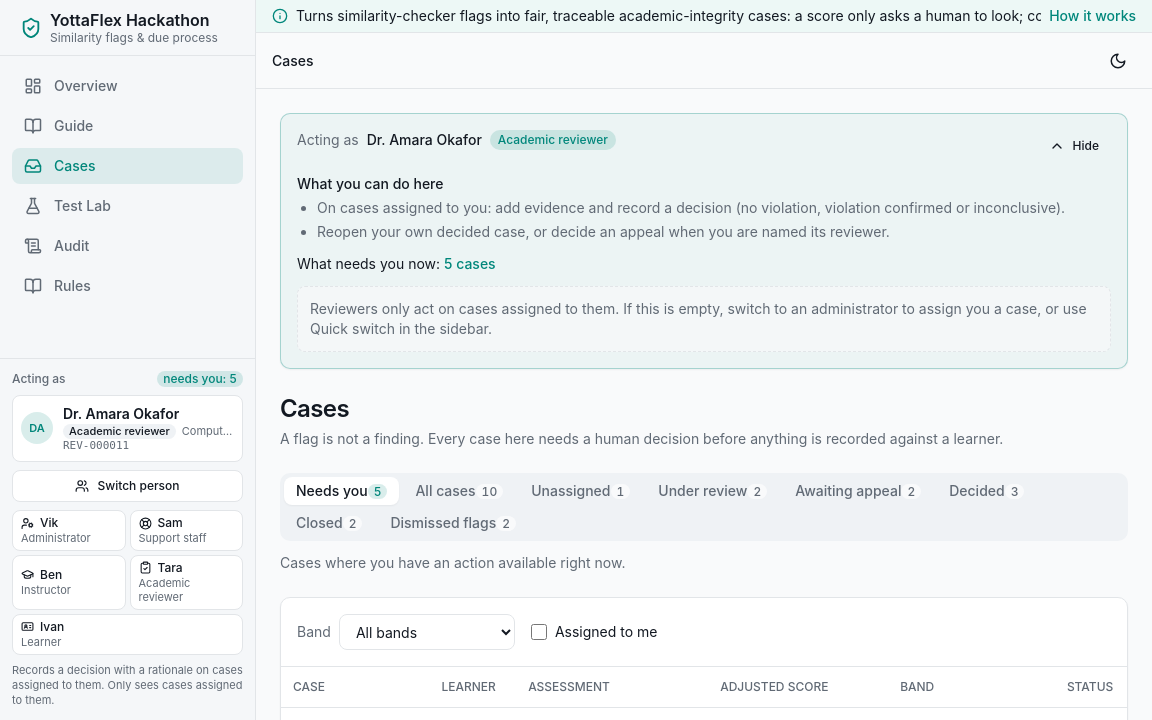
CasesPage › opens on Needs you and the Closed tab filters the list
Expected: the text "Elena Petrova" is not shown
Press the mouse on the tab "Closed2" at (329, 523), box [284, 509, 374, 537]
(page scrolled)
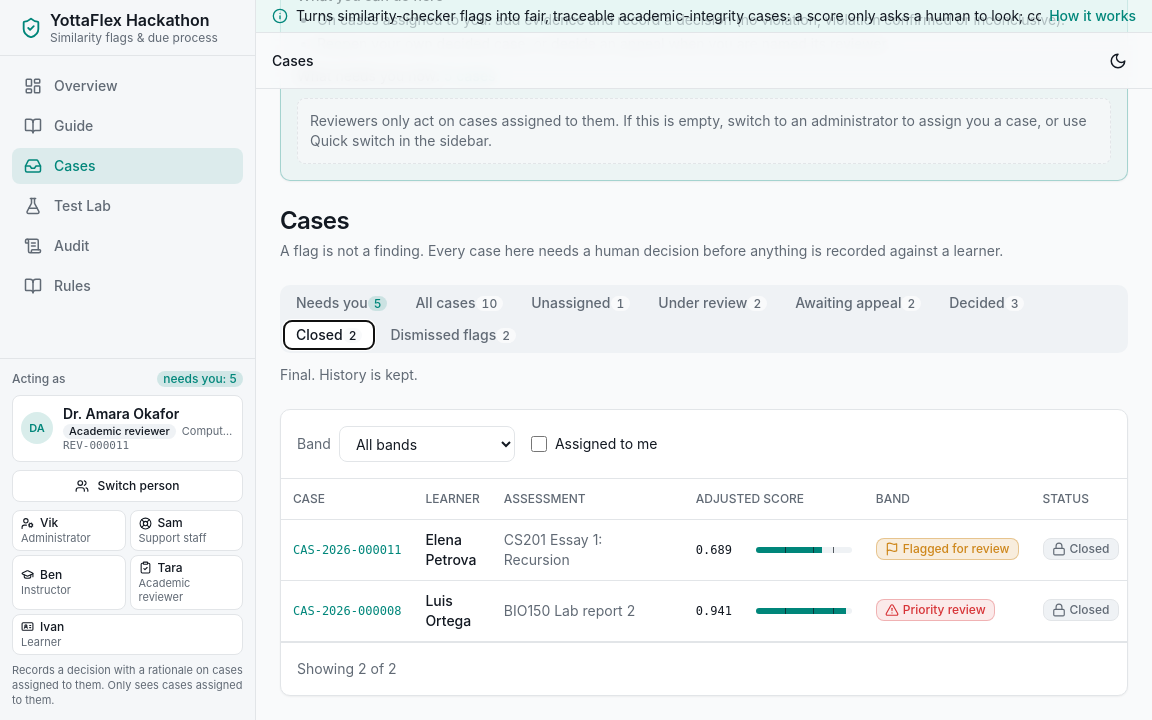
Expected: the text "Elena Petrova" is shown, [413, 519, 492, 580]
